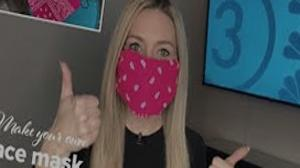mask: (112, 4, 186, 130)
